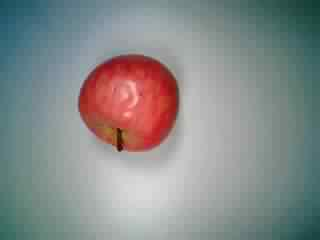apple: (78, 52, 185, 155)
